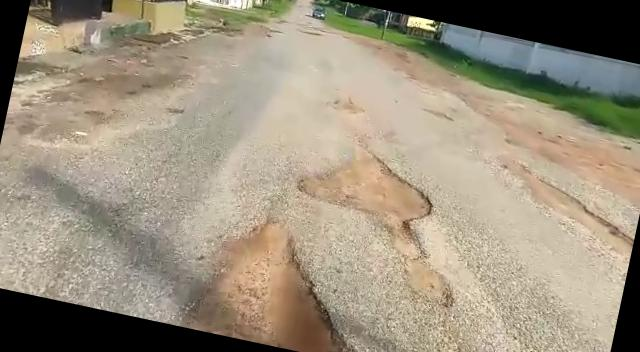pothole: (172, 203, 389, 352), (283, 134, 451, 239), (374, 228, 476, 317)
